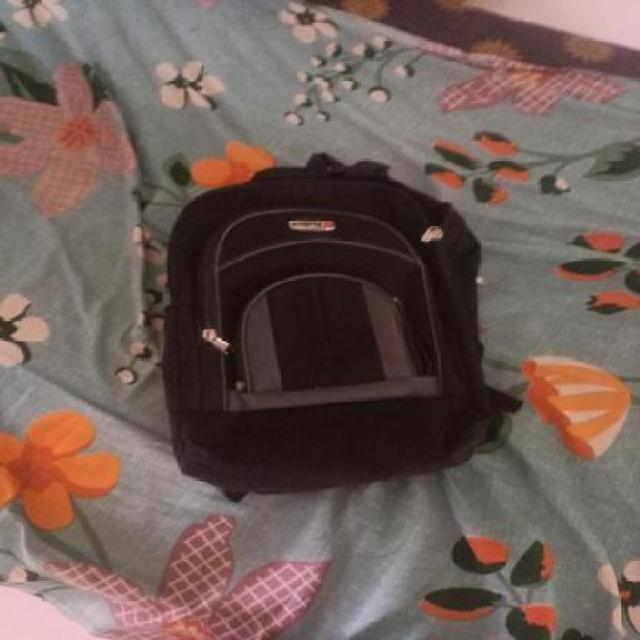backpack: (157, 146, 528, 502)
